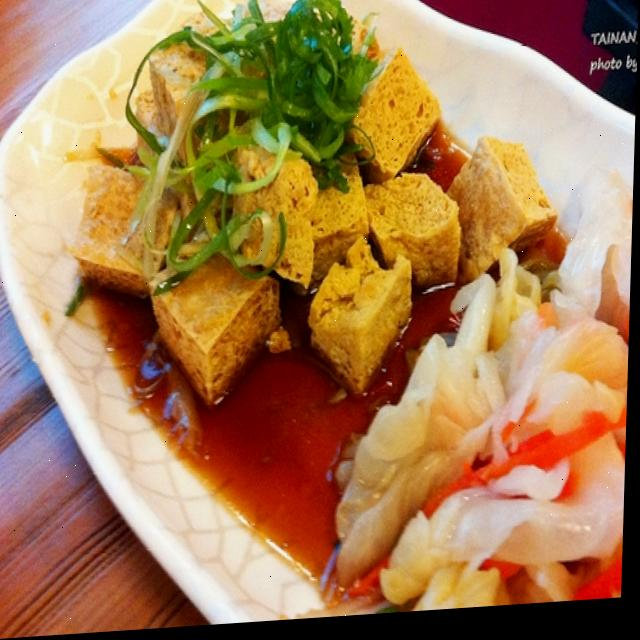豆腐料理: (29, 0, 573, 424)
